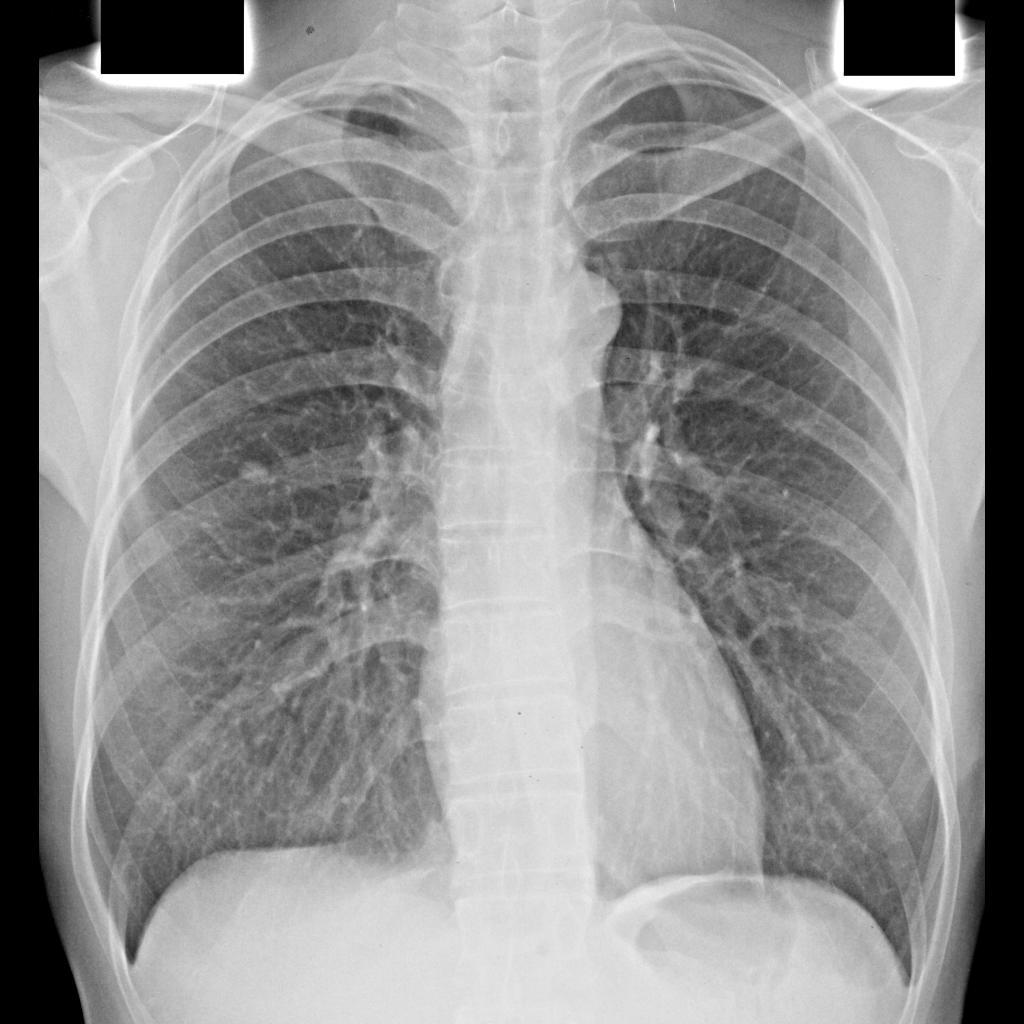Nodule: (238, 457, 271, 489)
